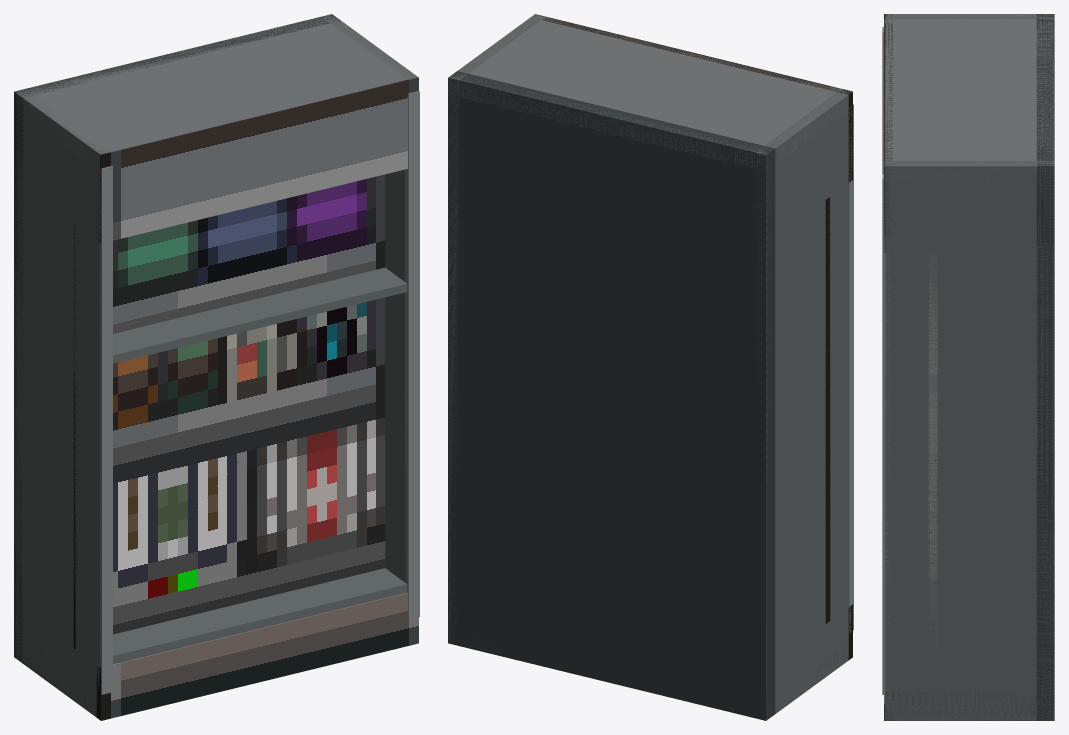
File: CMU3DReduxAU14LACNcorpsmanvendor.glb
The picture shows the model from 3 angles, left to right: view 1: azimuth 30°, elevation 25°; view 2: azimuth 150°, elevation 25°; view 3: azimuth 270°, elevation 25°; orthographic projection.
Visible parts, largest first — view 1: source cabinet panel 2, left casing, source cabinet panel 0, closed roof, source cabinet panel 1, source cabinet panel 3, front upright (×2), right casing, shelf tray 2, shelf tray 1, closed cabinet back; view 2: closed cabinet back, left casing, closed roof, right casing, front upright, source cabinet panel 0, source cabinet panel 2, closed plinth and underside, source cabinet panel 1; view 3: right casing, closed roof, closed cabinet back, source cabinet panel 2, front upright, closed plinth and underside, source cabinet panel 0, source cabinet panel 1, left casing.
Part boxes in pixels (x1,y1,x2,y2): source cabinet panel 2: (73,297,385,648); left casing: (14,90,108,717); source cabinet panel 0: (96,77,418,243); closed roof: (16,14,417,170); source cabinet panel 1: (73,174,385,347); source cabinet panel 3: (96,592,418,720); front upright (×2): (97,91,419,694); right casing: (322,14,417,582); shelf tray 2: (113,568,407,664); shelf tray 1: (113,267,407,363); closed cabinet back: (14,14,340,663); closed cabinet back: (448,71,775,720); left casing: (755,89,851,719); closed roof: (448,15,849,171); right casing: (448,14,545,643); front upright: (849,104,853,632); source cabinet panel 0: (532,14,852,182); source cabinet panel 2: (825,321,830,623); closed plinth and underside: (448,617,848,720); source cabinet panel 1: (825,197,830,323); right casing: (885,161,1054,720); closed roof: (885,14,1054,182); closed cabinet back: (1036,14,1054,720); source cabinet panel 2: (928,374,937,659); front upright: (882,174,890,694); closed plinth and underside: (885,691,1054,720); source cabinet panel 0: (884,14,892,252); source cabinet panel 1: (928,253,937,374); left casing: (885,14,1054,19).
Bounding box in the file's own units: 1 × 1.7 × 0.478.
Materials: 10 (4 with a texture image).
